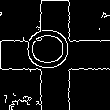O_E: (30, 34, 80, 76)
